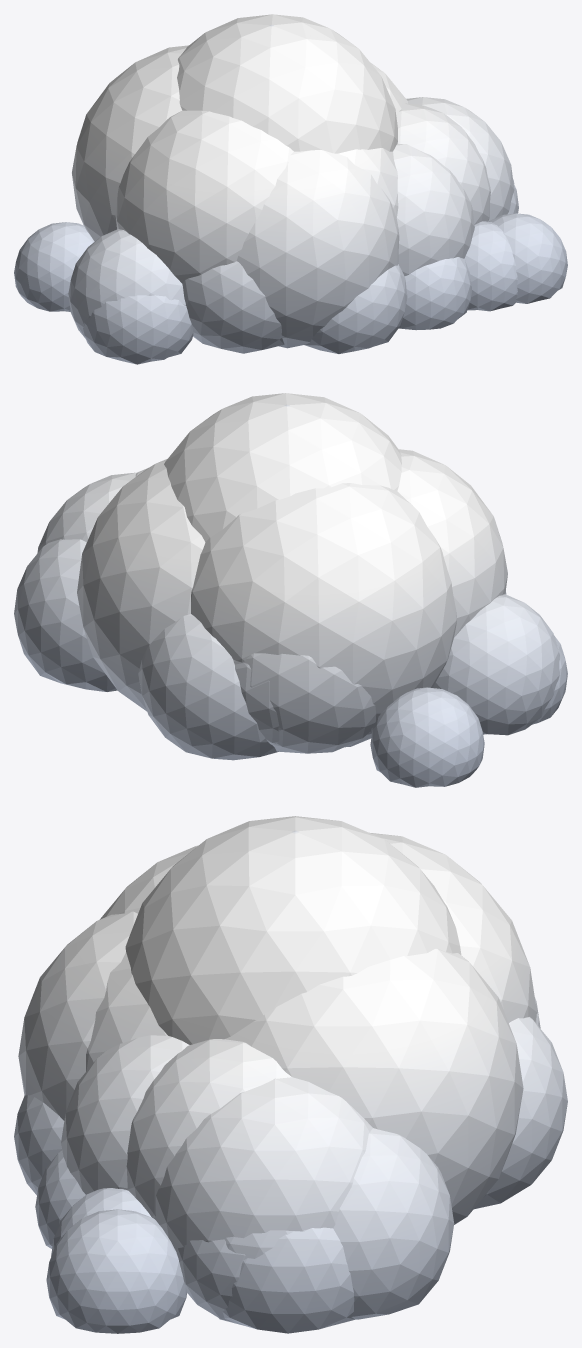
File: Cloud_2.obj
3 views of the same model, one above another, from view 1: azimuth 30°, elevation 25°; view 2: azimuth 150°, elevation 25°; view 3: azimuth 270°, elevation 25° (orthographic). The views are drawn at different scales.
Parts seen in each view (by area): view 1: Cloud; view 2: Cloud; view 3: Cloud.
Part boxes in pixels (left/top/right/bottom): Cloud: left=14, top=14, right=567, bottom=364; Cloud: left=14, top=393, right=567, bottom=787; Cloud: left=14, top=816, right=567, bottom=1333.
Size of the model in its own units: 35.18 by 19.2 by 27.16.
Materials: 1 (1 with a texture image).
